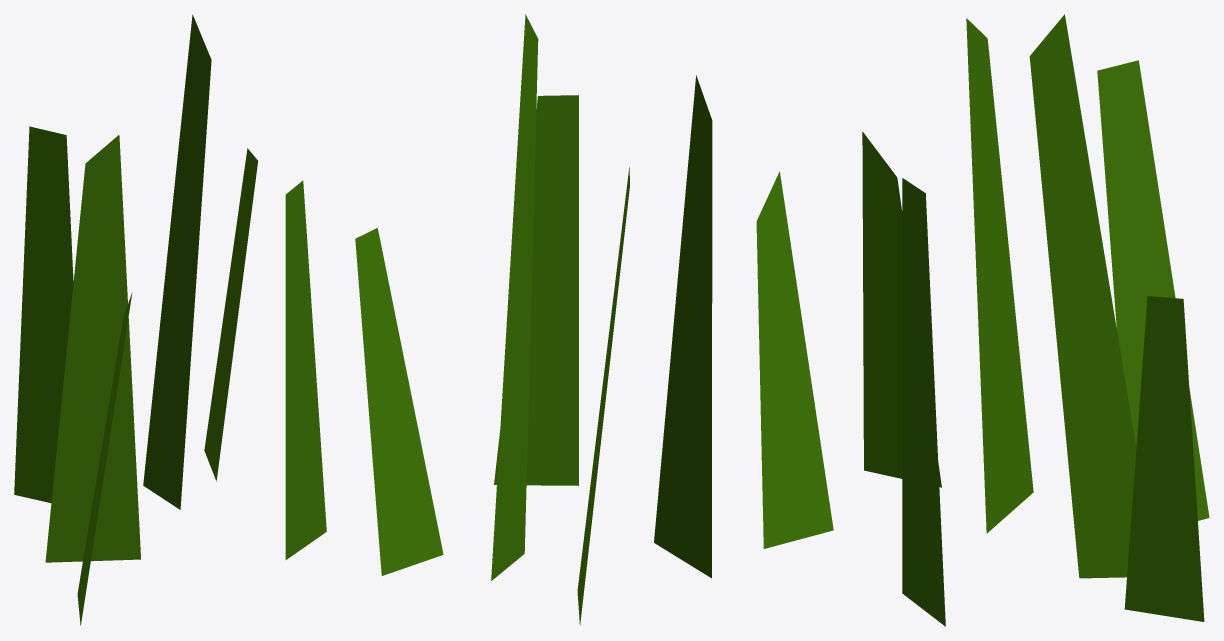
Rendered from Grass1Green.fbx.
The picture shows the model from 3 angles, left to right: view 1: azimuth 30°, elevation 25°; view 2: azimuth 150°, elevation 25°; view 3: azimuth 270°, elevation 25°; orthographic projection. The views are drawn at different scales.
Parts seen in each view (by area): view 1: Plane; view 2: Plane; view 3: Plane.
Boxes of the visible parts, <box> form: Plane: <box>14,14,326,625</box>; Plane: <box>355,14,833,625</box>; Plane: <box>862,14,1209,626</box>.
Size of the model in its own units: 0.1851 by 0.2873 by 0.1593.
